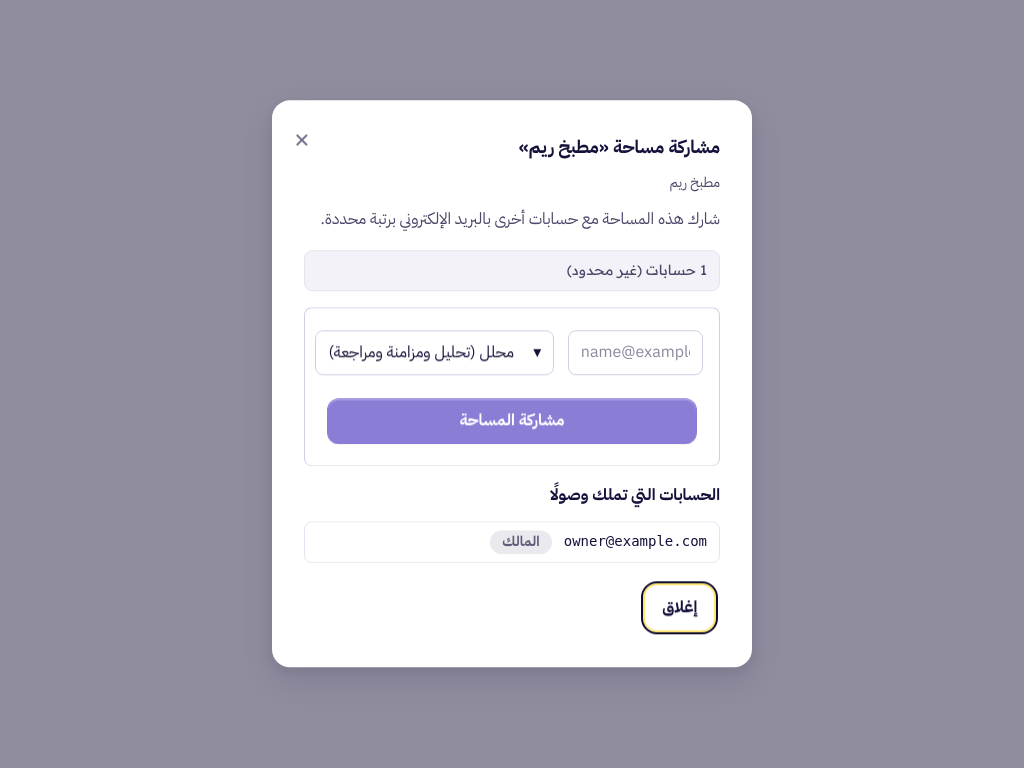
Test: ShareWorkspaceDialog › handles unlimited members_limit without marking limitReached
The width and height of the screenshot is (1024, 768).
In the field with test id "share-email-input": (635, 353) [568,330,703,375], type "unlimited@example.com"
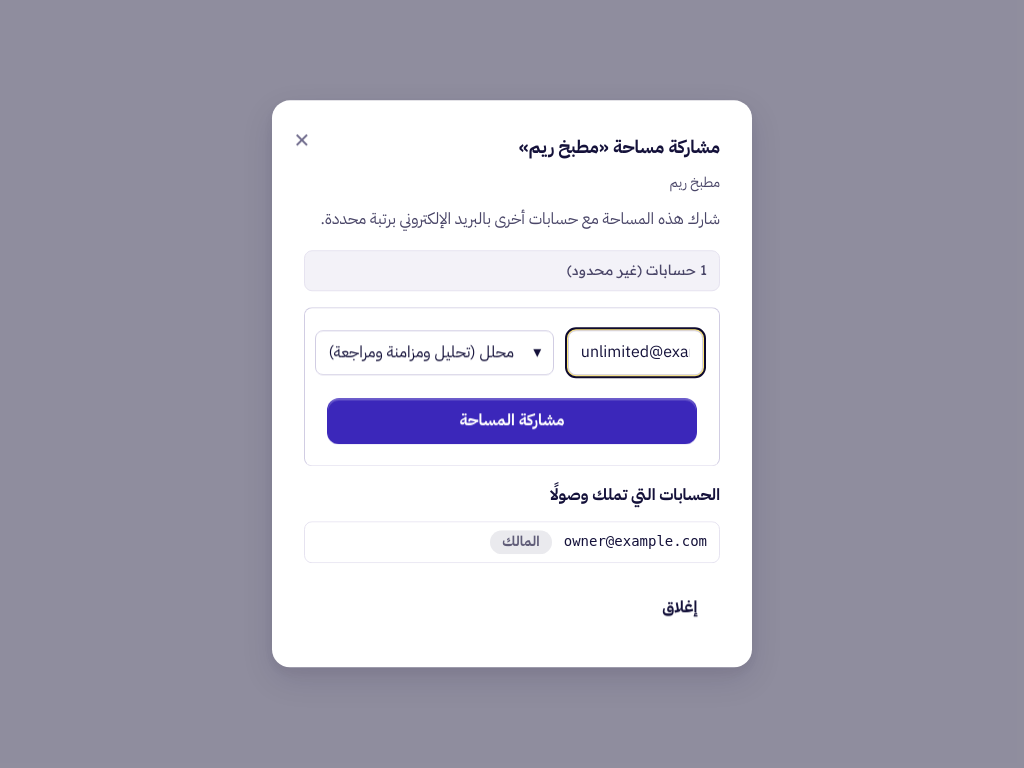
Expected: the button with test id "share-submit-btn" is enabled, [327,399,697,444]
